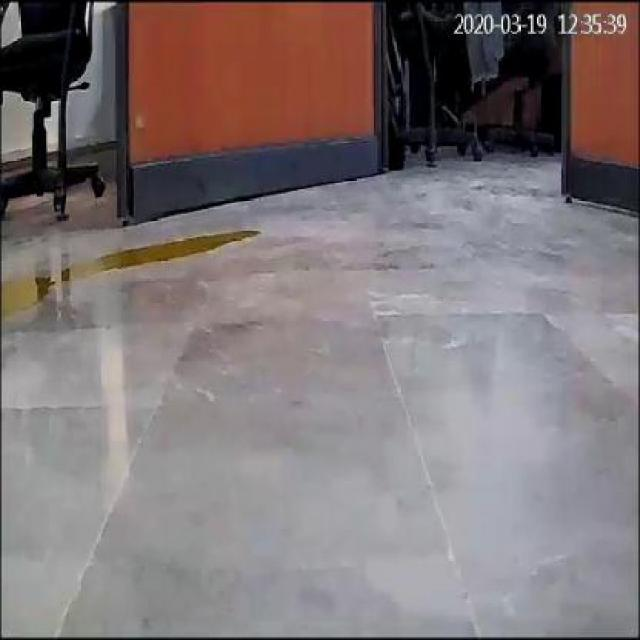spill: (5, 225, 262, 324)
